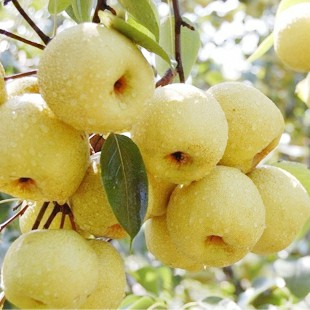pear: (36, 23, 156, 131), (166, 162, 265, 266), (129, 83, 228, 184), (1, 92, 91, 202), (1, 228, 101, 310), (200, 81, 284, 176), (72, 151, 151, 238), (239, 163, 309, 255), (50, 235, 127, 310), (18, 179, 77, 238), (275, 1, 310, 73)
